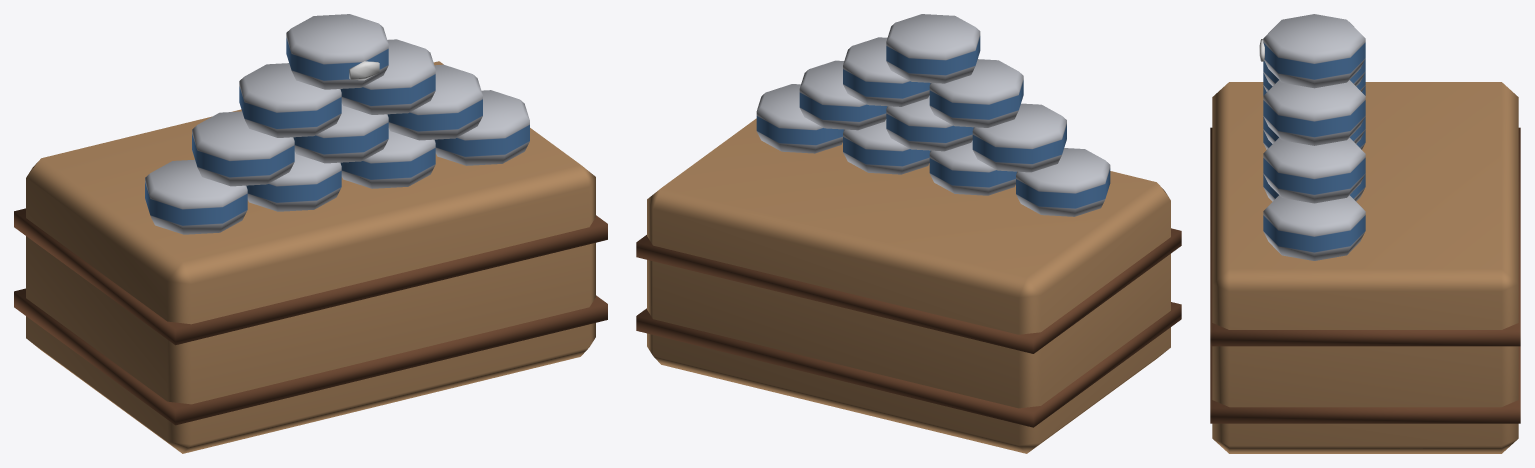
File: can_stack.glb
3 views of the same model, side by side, from view 1: azimuth 30°, elevation 25°; view 2: azimuth 150°, elevation 25°; view 3: azimuth 270°, elevation 25° (orthographic). The views are drawn at different scales.
Visible parts, largest first — view 1: can_stack, top_can; view 2: can_stack, top_can; view 3: can_stack, top_can.
Part boxes in pixels (x1,y1,x2,y2): can_stack: (14,39,607,453); top_can: (286,14,388,89); can_stack: (636,37,1181,453); top_can: (886,14,980,83); can_stack: (1210,59,1520,453); top_can: (1259,14,1365,88).
Size of the model in its own units: 0.565 by 0.424 by 0.365.
